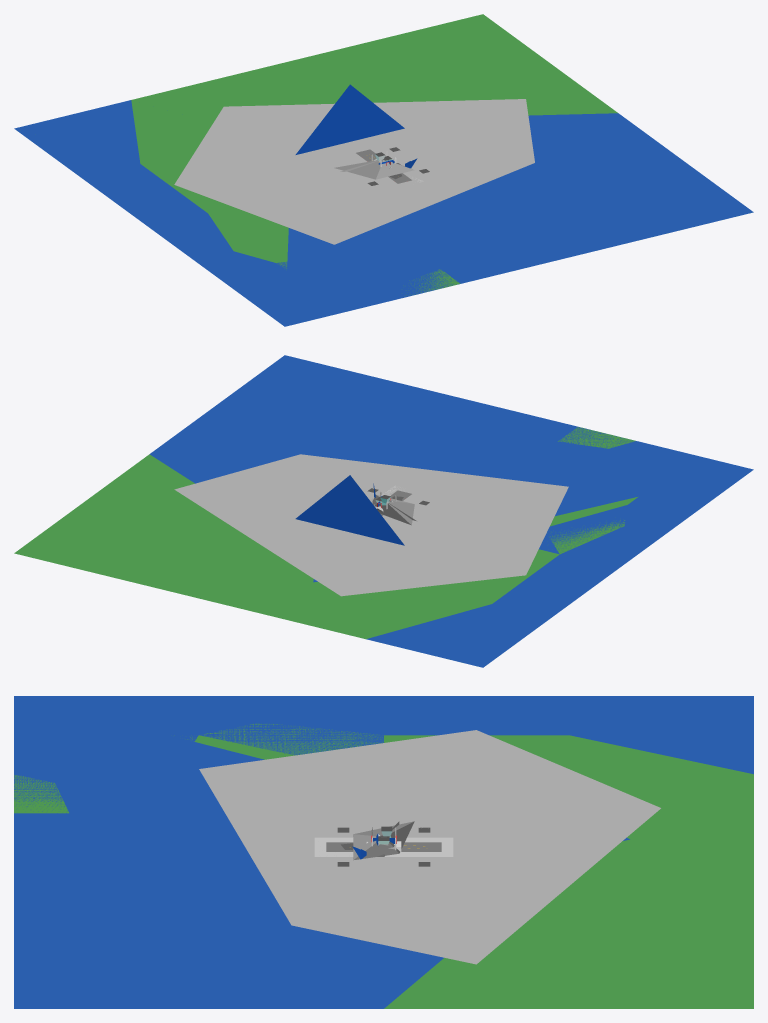
3 views of the same model, one above another, from view 1: azimuth 30°, elevation 25°; view 2: azimuth 150°, elevation 25°; view 3: azimuth 270°, elevation 25° (orthographic). The views are drawn at different scales.
Visible parts, largest first — view 1: me_021_lod0, me_003_lod0, me_002_lod0, me_001_lod0, me_004_lod0, me_043_lod0, me_010_lod0; view 2: me_021_lod0, me_003_lod0, me_001_lod0, me_002_lod0, me_004_lod0, me_043_lod0, me_010_lod0; view 3: me_021_lod0, me_003_lod0, me_002_lod0, me_001_lod0, me_004_lod0, me_043_lod0, me_010_lod0, me_043_lod0_s1v0.
Part boxes in pixels (left/top/right/bottom): me_021_lod0: left=174, top=99, right=534, bottom=244; me_003_lod0: left=277, top=113, right=753, bottom=324; me_002_lod0: left=285, top=14, right=617, bottom=326; me_001_lod0: left=14, top=71, right=287, bottom=326; me_004_lod0: left=208, top=14, right=617, bottom=268; me_043_lod0: left=295, top=84, right=423, bottom=182; me_010_lod0: left=334, top=160, right=414, bottom=179; me_021_lod0: left=174, top=454, right=568, bottom=596; me_003_lod0: left=149, top=355, right=743, bottom=582; me_001_lod0: left=249, top=469, right=753, bottom=667; me_002_lod0: left=14, top=423, right=753, bottom=553; me_004_lod0: left=14, top=454, right=638, bottom=610; me_043_lod0: left=295, top=475, right=404, bottom=545; me_010_lod0: left=372, top=494, right=414, bottom=525; me_021_lod0: left=199, top=730, right=660, bottom=964; me_003_lod0: left=14, top=697, right=629, bottom=1008; me_002_lod0: left=14, top=696, right=753, bottom=1008; me_001_lod0: left=14, top=696, right=753, bottom=852; me_004_lod0: left=174, top=723, right=753, bottom=1008; me_043_lod0: left=314, top=837, right=453, bottom=856; me_010_lod0: left=353, top=821, right=414, bottom=860; me_043_lod0_s1v0: left=326, top=842, right=441, bottom=851.
Size of what is drawn, in the model's own units: 4096 by 512 by 4096.
